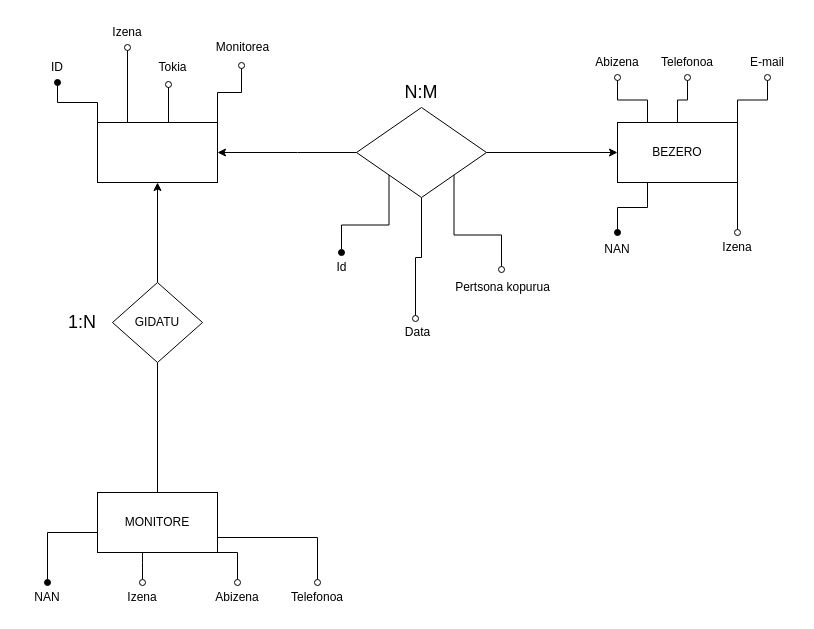
This 814x629 diagram has some shape labels left out. The centre of each missing label's shape, as x and y in pixels:
"AKTIBITATE" belongs at point 157,152.
"KONTRATATU" belongs at point 421,152.
